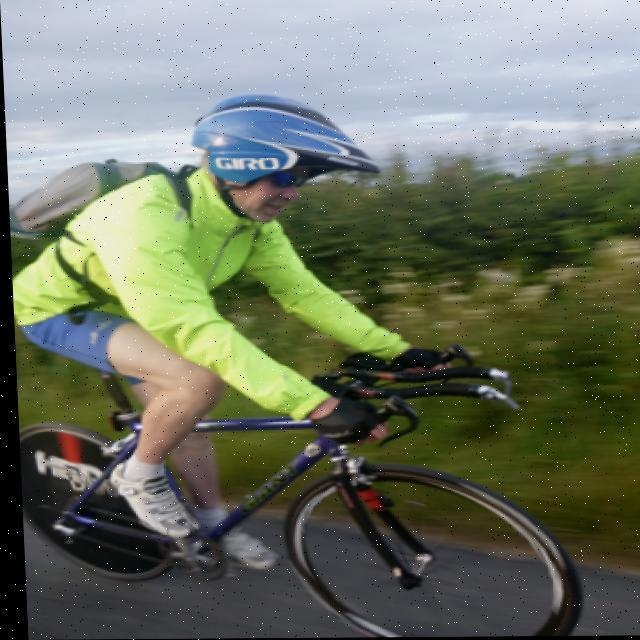Helmet: (192, 82, 384, 230)
